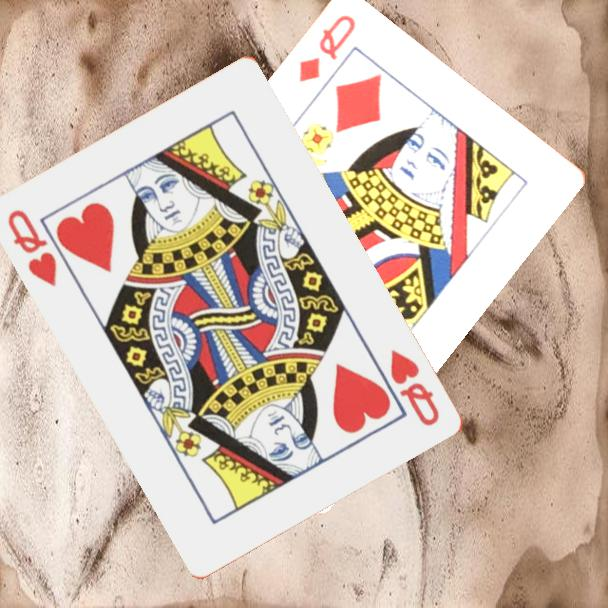d12: (295, 10, 359, 85)
h12: (4, 206, 61, 290), (387, 346, 443, 429)
